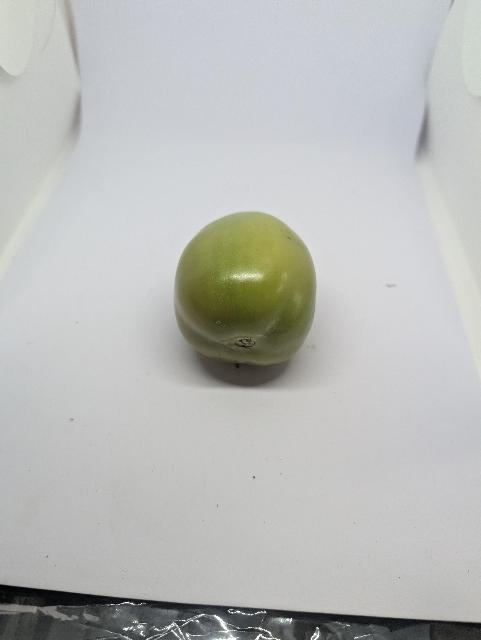green: (172, 210, 320, 369)
